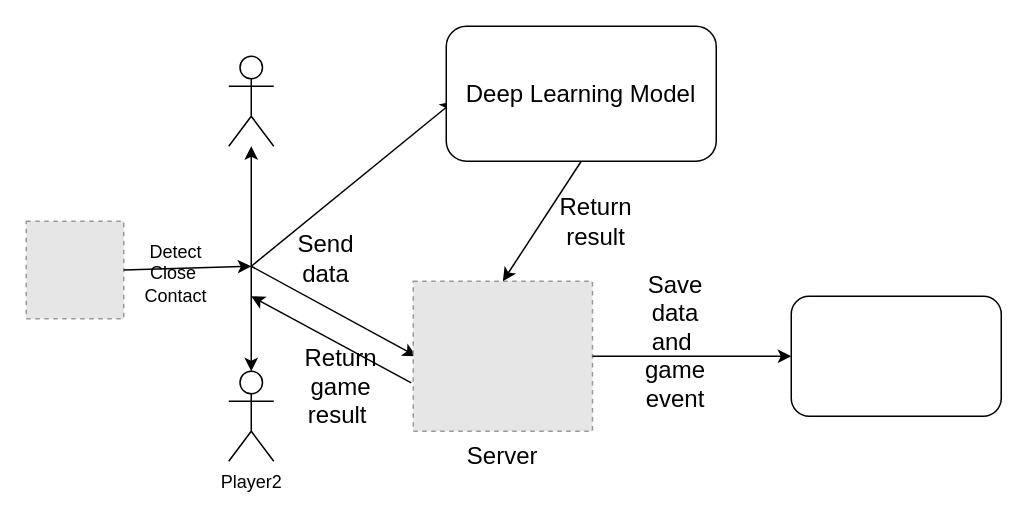
The diagram is 1028 pixels wide and 519 high, and some of its shapes have lost their labels. Grey dashed boxes stand in for pictures. The shapes that lost their labels are listed below. From the top down, each one's centre as x and y in pixels, then its label:
At (x=250, y=100): "Player1".
At (x=895, y=355): "Database".
